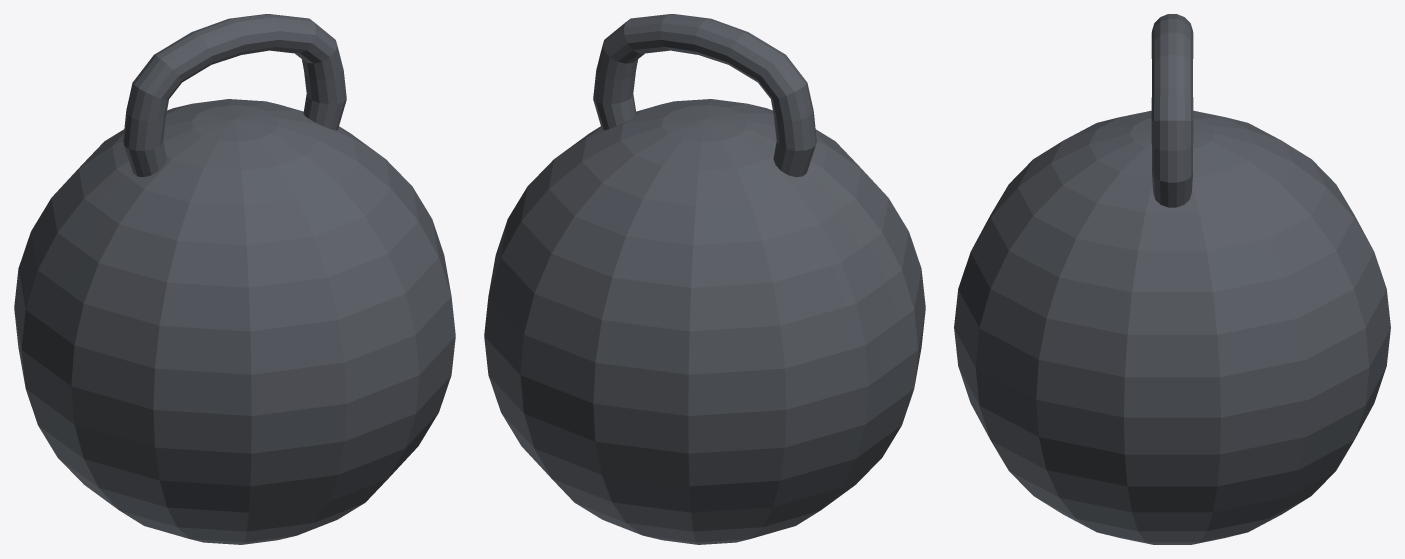
Rendered from dumbbell_2.fbx.
The picture shows the model from 3 angles, left to right: view 1: azimuth 30°, elevation 25°; view 2: azimuth 150°, elevation 25°; view 3: azimuth 270°, elevation 25°; orthographic projection. The views are drawn at different scales.
Parts seen in each view (by area): view 1: Sphere.001; view 2: Sphere.001; view 3: Sphere.001.
Part boxes in pixels (box(x1,y1,x2,y2)): Sphere.001: box(14, 14, 455, 544); Sphere.001: box(484, 14, 925, 544); Sphere.001: box(954, 14, 1390, 544).
Size of the model in its own units: 140 by 179 by 143.
